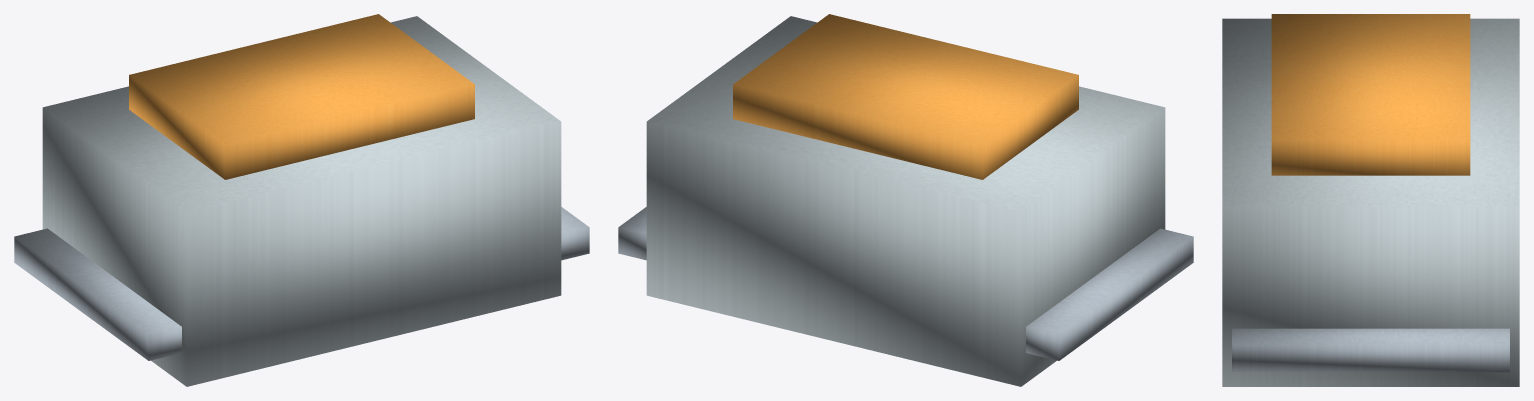
File: 275_L121_LED5.obj
The picture shows the model from 3 angles, left to right: view 1: azimuth 30°, elevation 25°; view 2: azimuth 150°, elevation 25°; view 3: azimuth 270°, elevation 25°; orthographic projection. The views are drawn at different scales.
Visible parts, largest first — view 1: connector_white__PSMAT__connector_white, led_amber__PSMAT__led_amber, tin__PSMAT__tin; view 2: connector_white__PSMAT__connector_white, led_amber__PSMAT__led_amber, tin__PSMAT__tin; view 3: connector_white__PSMAT__connector_white, led_amber__PSMAT__led_amber, tin__PSMAT__tin.
Boxes of the visible parts, x1,y1,x2,y2 form: connector_white__PSMAT__connector_white: (42, 16, 561, 386); led_amber__PSMAT__led_amber: (129, 14, 474, 179); tin__PSMAT__tin: (14, 207, 589, 360); connector_white__PSMAT__connector_white: (646, 16, 1165, 386); led_amber__PSMAT__led_amber: (733, 14, 1078, 179); tin__PSMAT__tin: (618, 207, 1193, 360); connector_white__PSMAT__connector_white: (1222, 18, 1519, 386); led_amber__PSMAT__led_amber: (1271, 14, 1470, 175); tin__PSMAT__tin: (1232, 328, 1509, 372).
Bounding box in the file's own units: 0.0053 × 0.0024 × 0.003.
Materials: 3 (3 with a texture image).
